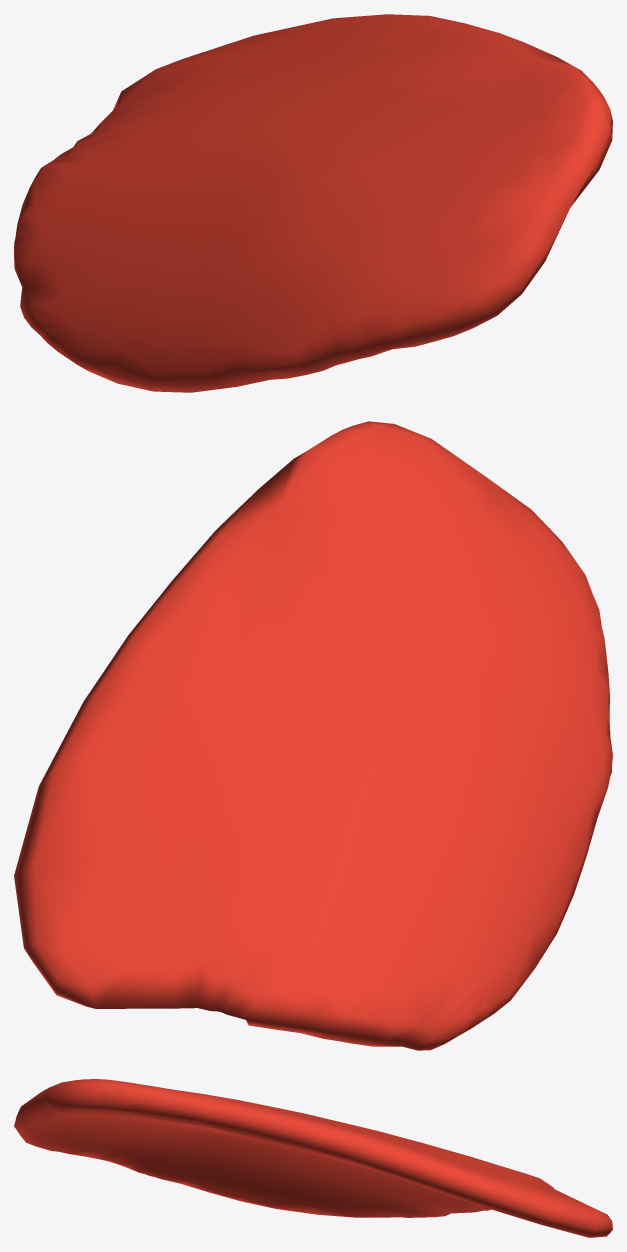
Rendered from Biceps_brachii_long_head_supraglenoid_tubercle_scapula_right.glb.
3 views of the same model, one above another, from view 1: azimuth 30°, elevation 25°; view 2: azimuth 150°, elevation 25°; view 3: azimuth 270°, elevation 25° (orthographic). The views are drawn at different scales.
Visible parts, largest first — view 1: Long_head_of_biceps_brachi_on_supraglenoid_tuberle_of_scapul; view 2: Long_head_of_biceps_brachi_on_supraglenoid_tuberle_of_scapul; view 3: Long_head_of_biceps_brachi_on_supraglenoid_tuberle_of_scapul.
Part boxes in pixels (bbox=[...]): Long_head_of_biceps_brachi_on_supraglenoid_tuberle_of_scapul: bbox=[14, 14, 612, 392]; Long_head_of_biceps_brachi_on_supraglenoid_tuberle_of_scapul: bbox=[14, 421, 612, 1050]; Long_head_of_biceps_brachi_on_supraglenoid_tuberle_of_scapul: bbox=[14, 1079, 612, 1237].
Bounding box in the file's own units: 0.00457 × 0.00405 × 0.00907.
